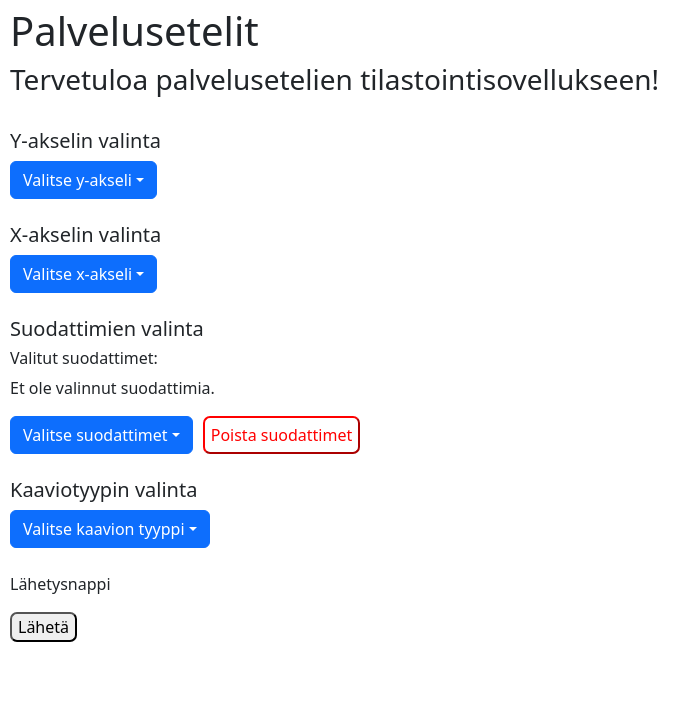
Test: App › tests that setFilter works correctly and it lists the filters and removes the filters when you click the filter again
Click the button "Valitse suodattimet".
click(101, 435)  # box [10,416,193,454]
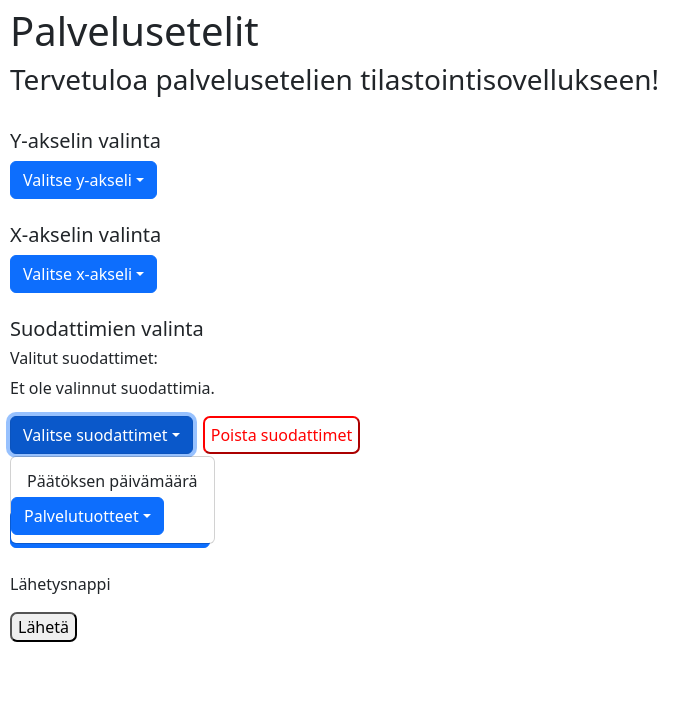
Click the button "Palvelutuotteet".
click(87, 516)  # box [11,497,164,535]
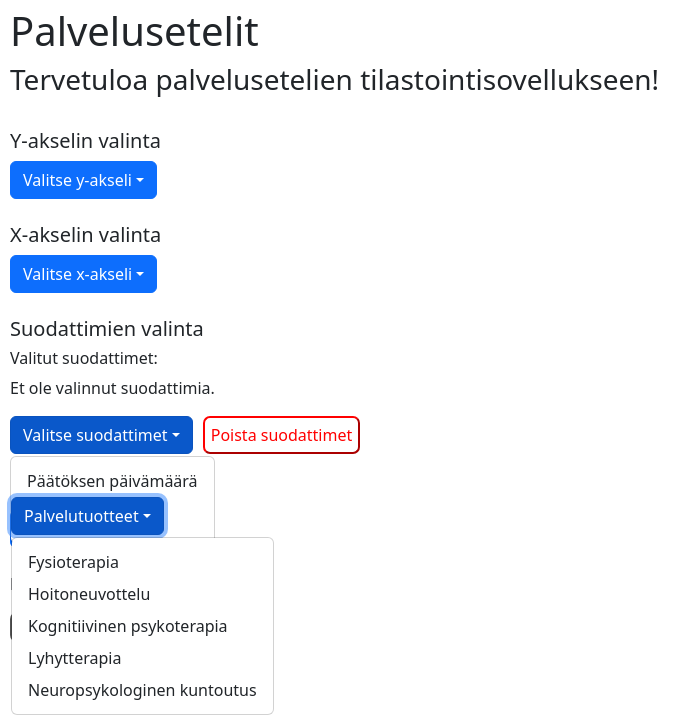
Click the button "Fysioterapia".
click(74, 562)  # box [28,551,119,573]
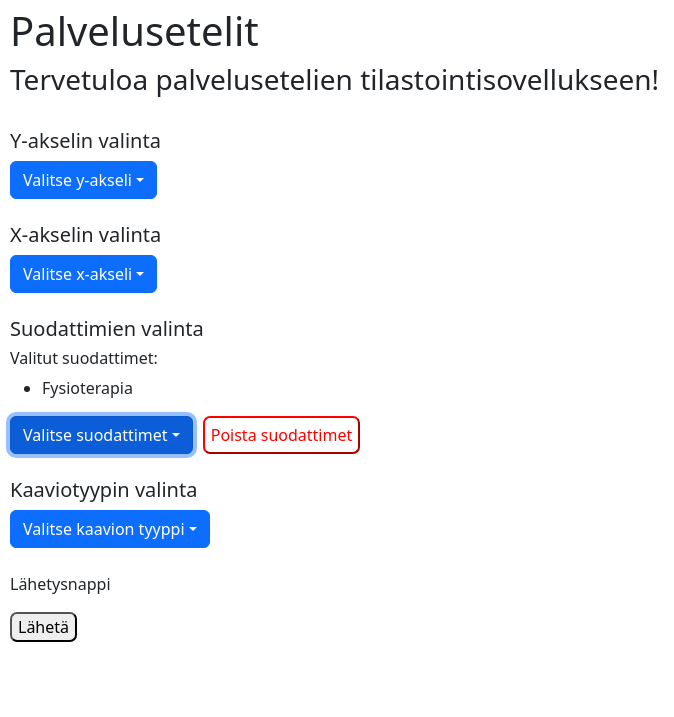
Now the list item "Fysioterapia" is shown, box [42,377,133,399]
Click the button "Valitse suodattimet".
click(101, 435)  # box [10,416,193,454]
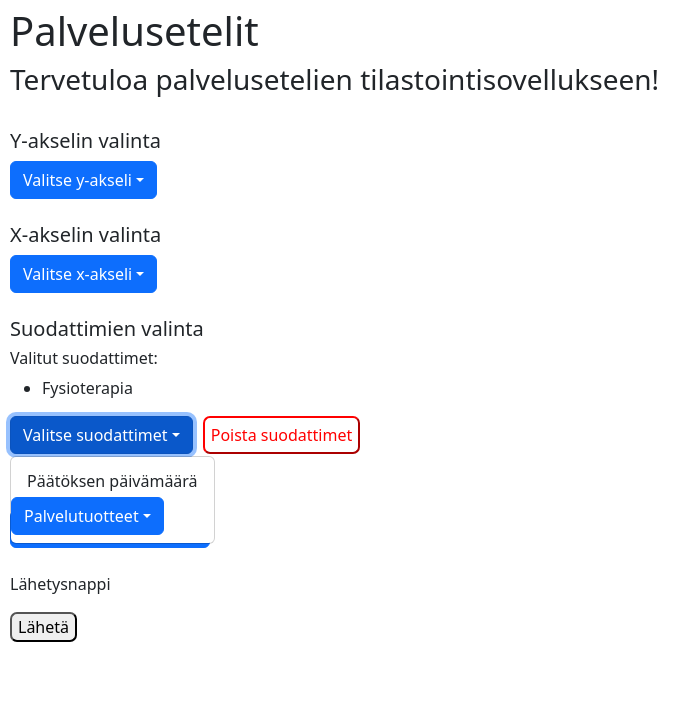
Click the button "Palvelutuotteet".
click(87, 516)  # box [11,497,164,535]
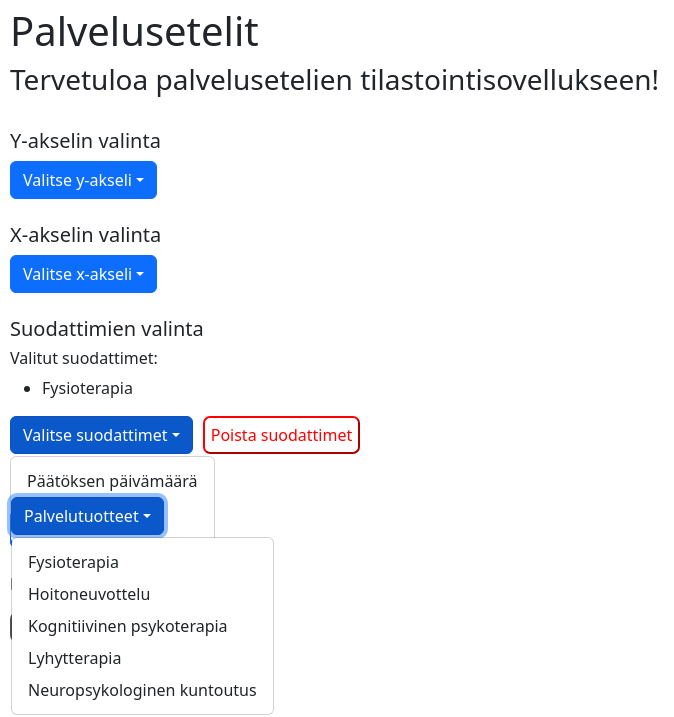
Click the button "Fysioterapia".
click(74, 562)  # box [28,551,119,573]
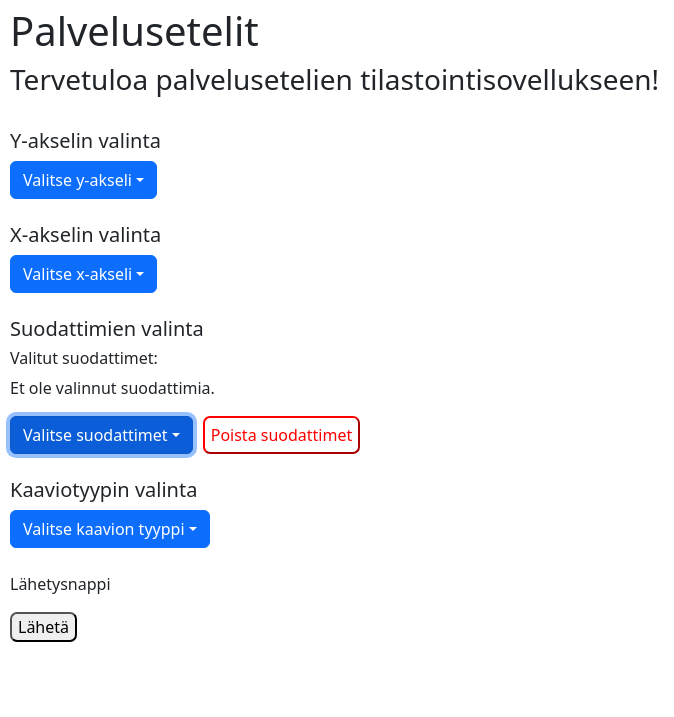
Now the list item "Fysioterapia" is gone
